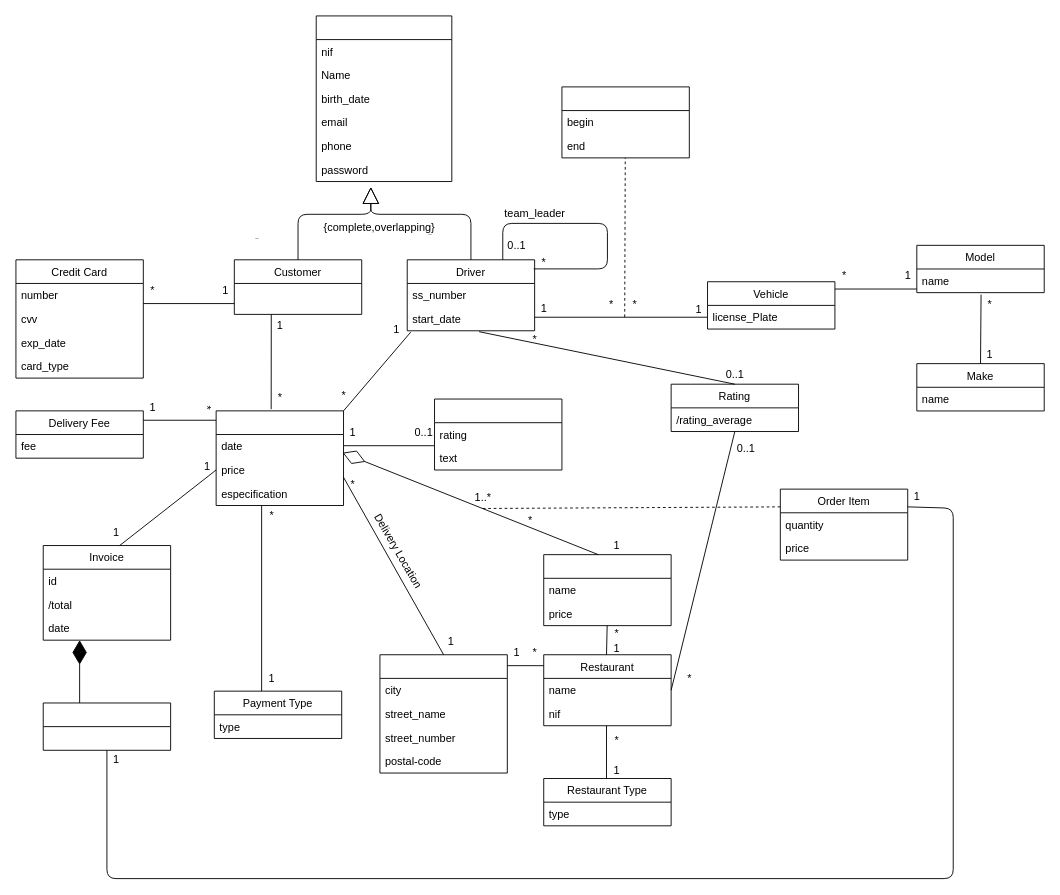
The diagram is 1060 pixels wide and 895 high, and some of its shapes have lost their labels. The box of each missing label's shape, as (x1, y1, x2, y2) in pixels:
Food: (543, 554, 671, 626)
Invoice Line: (42, 702, 171, 750)
Location: (379, 654, 507, 773)
Order: (215, 410, 344, 506)
Person: (315, 15, 452, 182)
Review: (434, 398, 562, 470)
Vehicle Driver: (561, 86, 689, 158)
